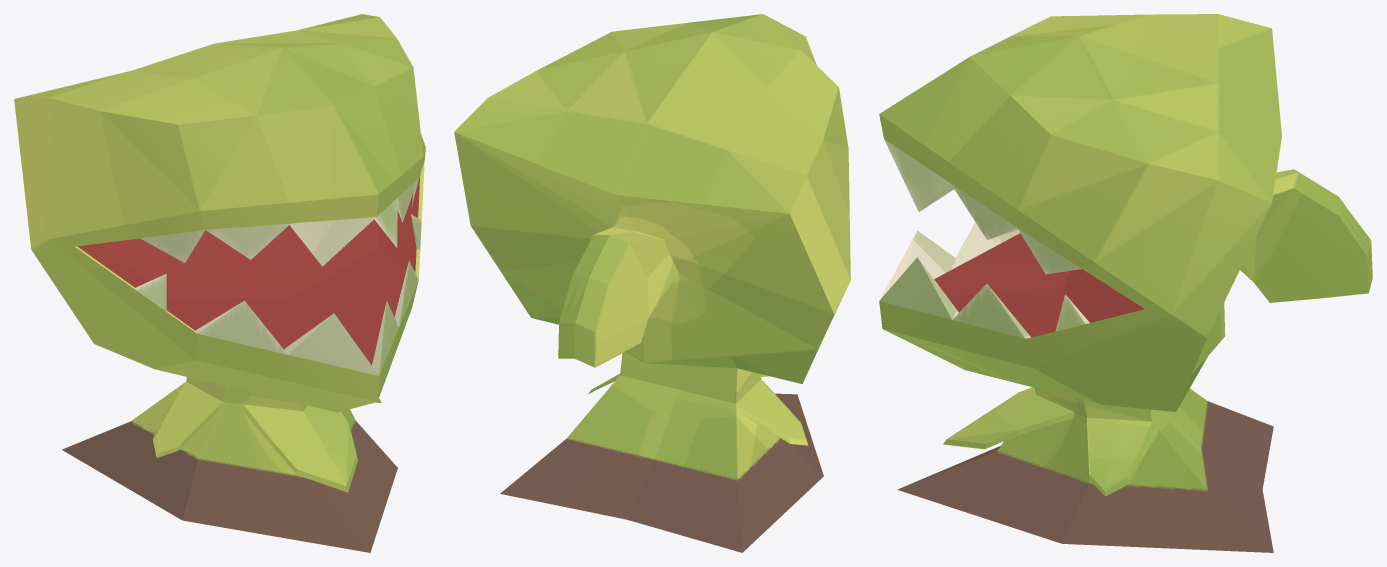
The model's file is plant_carni.glb.
3 renders of one model, left to right at view 1: azimuth 30°, elevation 25°; view 2: azimuth 150°, elevation 25°; view 3: azimuth 270°, elevation 25°, orthographic. The views are drawn at different scales.
Visible parts, largest first — view 1: carnivorous_plant; view 2: carnivorous_plant; view 3: carnivorous_plant.
Part boxes in pixels (x1,y1,x2,y2): carnivorous_plant: (14, 14, 425, 552); carnivorous_plant: (454, 14, 850, 552); carnivorous_plant: (879, 14, 1372, 552).
Size of the model in its own units: 0.8205 by 0.9156 by 0.9028.
Materials: 1 (1 with a texture image).
